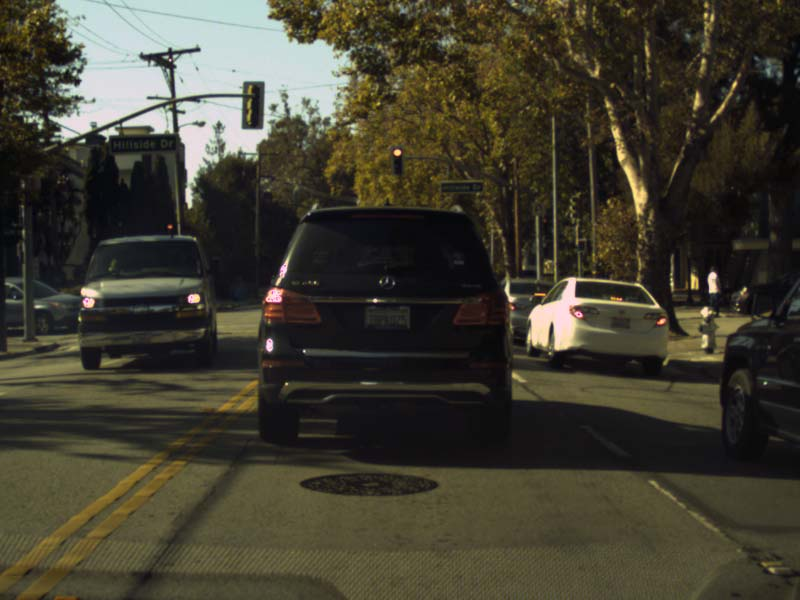Red: (390, 146, 404, 174), (164, 222, 175, 244)
